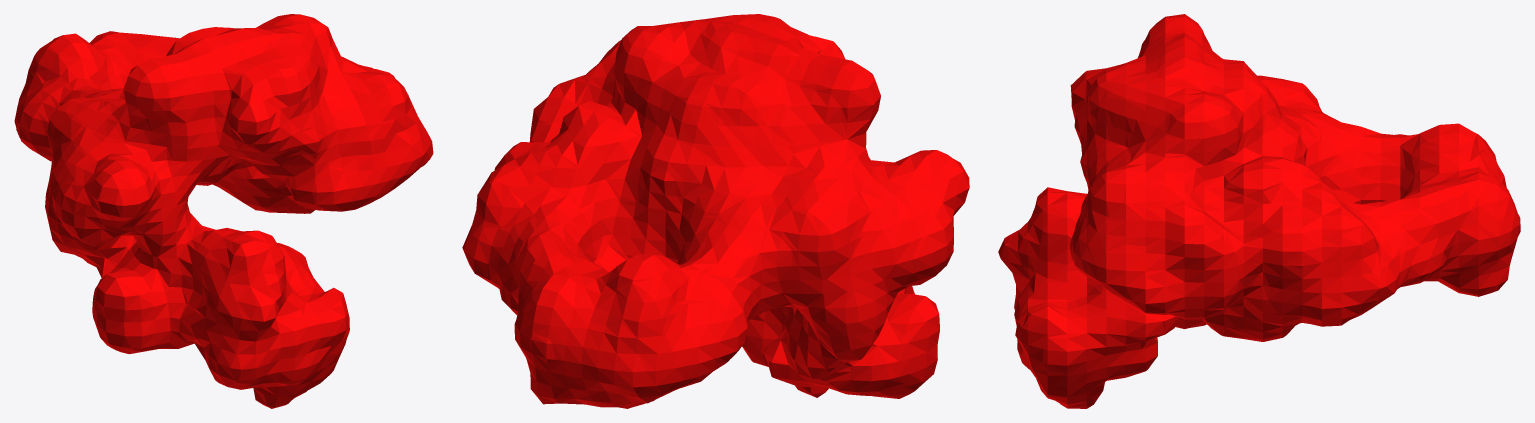
Rendered from topA_coarse.dae.
3 views of the same model, side by side, from view 1: azimuth 30°, elevation 25°; view 2: azimuth 150°, elevation 25°; view 3: azimuth 270°, elevation 25° (orthographic). The views are drawn at different scales.
Parts seen in each view (by area): view 1: topA; view 2: topA; view 3: topA.
Part boxes in pixels (box(x1,y1,x2,y2)): topA: box(14, 14, 433, 408); topA: box(462, 14, 969, 408); topA: box(998, 14, 1520, 408).
Size of the model in its own units: 88.58 by 81.82 by 107.
